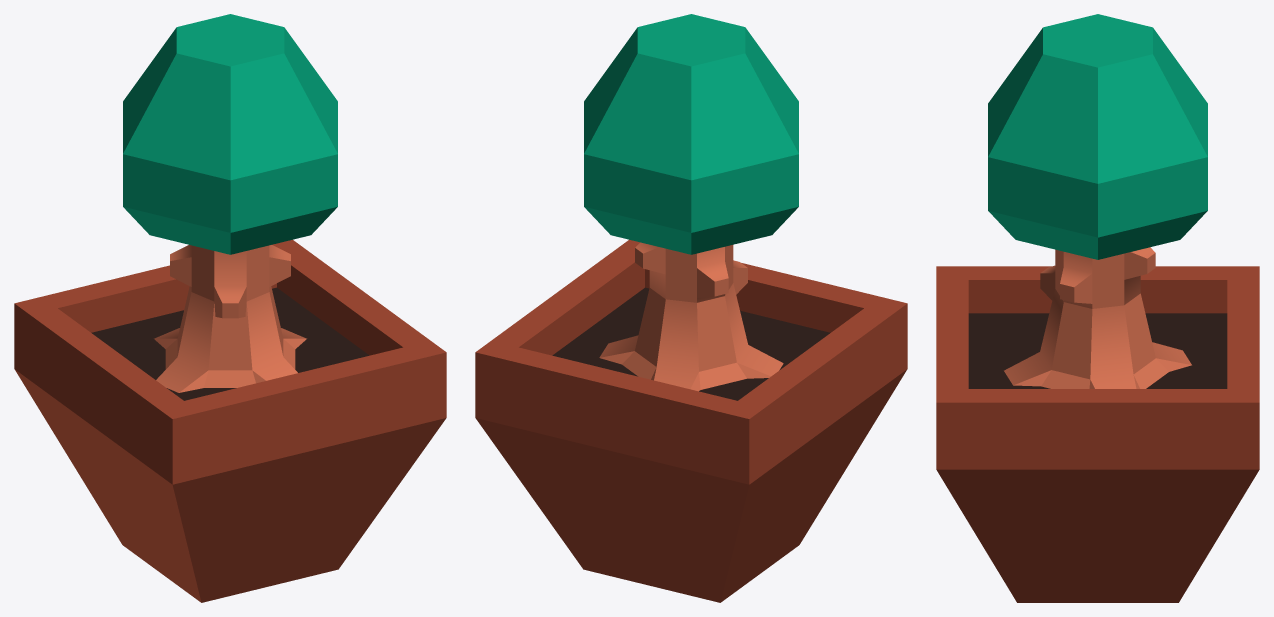
File: collectible_plant_tree.glb
3 views of the same model, side by side, from view 1: azimuth 30°, elevation 25°; view 2: azimuth 150°, elevation 25°; view 3: azimuth 270°, elevation 25° (orthographic). The views are drawn at different scales.
Parts seen in each view (by area): view 1: roof_flat, leafs_cone, block_taper%, trunk_baseDetailed, trunk_detailedA; view 2: roof_flat, leafs_cone, block_taper%, trunk_baseDetailed, trunk_detailedA; view 3: roof_flat, leafs_cone, block_taper%, trunk_baseDetailed, trunk_detailedA.
Part boxes in pixels (x1=…): roof_flat: x1=14, y1=239, x2=446, y2=484; leafs_cone: x1=123, y1=14, x2=337, y2=254; block_taper%: x1=14, y1=369, x2=446, y2=602; trunk_baseDetailed: x1=154, y1=286, x2=306, y2=392; trunk_detailedA: x1=170, y1=245, x2=290, y2=318; roof_flat: x1=475, y1=239, x2=907, y2=484; leafs_cone: x1=584, y1=14, x2=798, y2=254; block_taper%: x1=475, y1=369, x2=907, y2=602; trunk_baseDetailed: x1=599, y1=283, x2=783, y2=391; trunk_detailedA: x1=635, y1=242, x2=747, y2=302; roof_flat: x1=936, y1=266, x2=1259, y2=469; leafs_cone: x1=988, y1=14, x2=1207, y2=259; block_taper%: x1=936, y1=469, x2=1259, y2=602; trunk_baseDetailed: x1=1004, y1=289, x2=1191, y2=388; trunk_detailedA: x1=1040, y1=247, x2=1155, y2=308.
Bounding box in the file's own units: 0.7 × 1.26 × 0.7.
